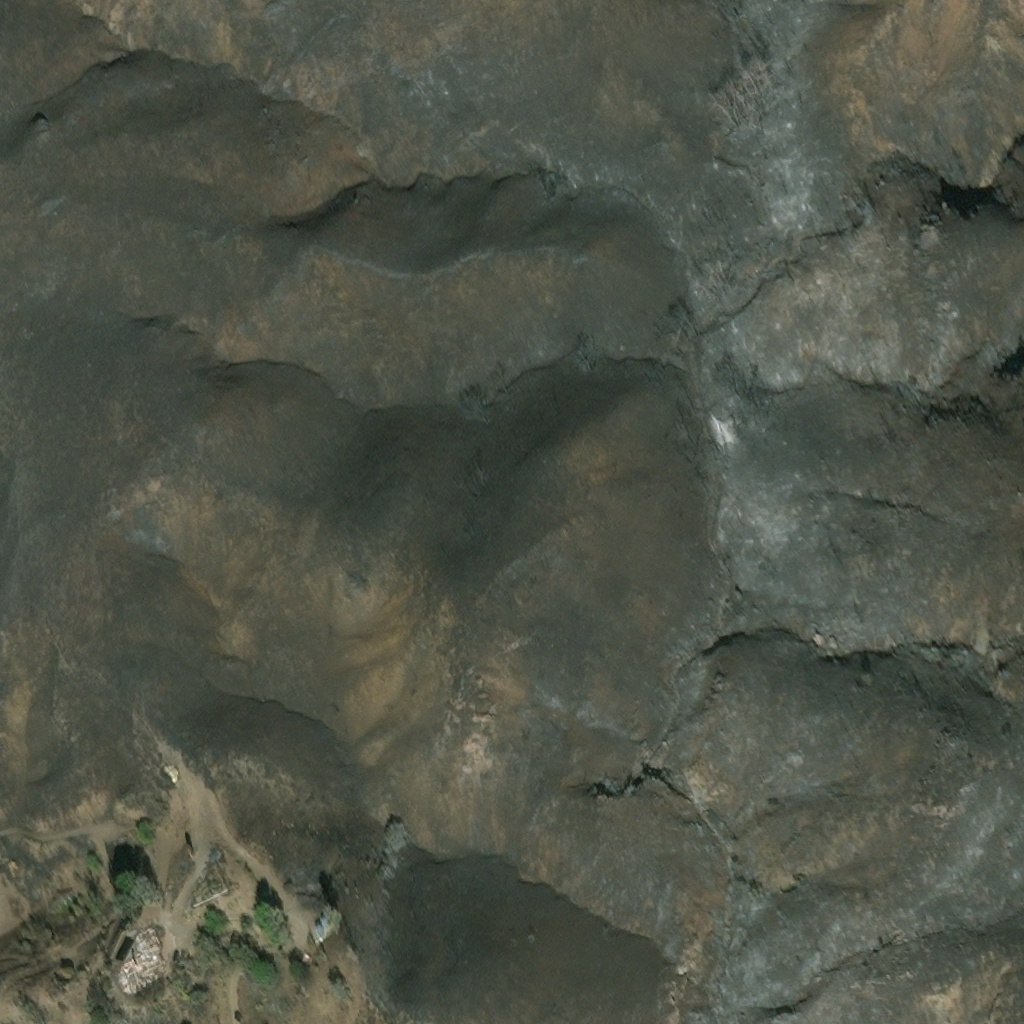2 major-damage: (306, 905, 335, 934)
3 destroyed: (117, 922, 166, 993), (294, 941, 308, 955)
